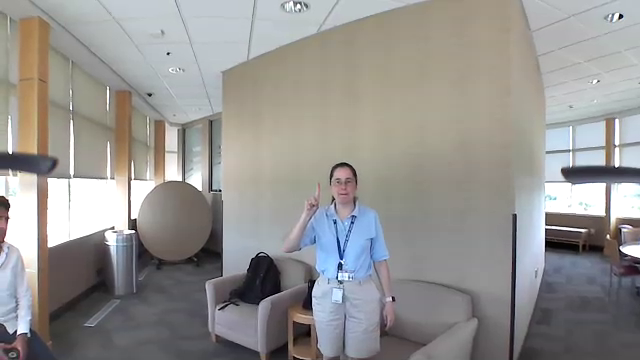up: (299, 177, 325, 221)
